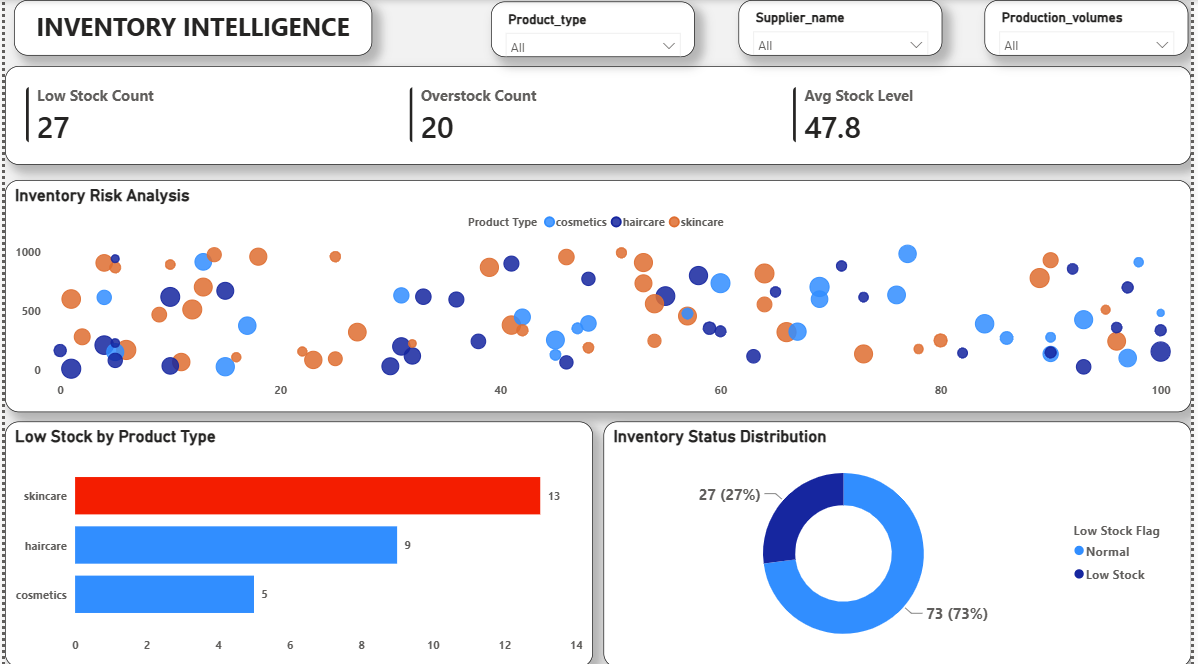

The page's visual inventory and layout, read from the dashboard file:
{"tool":"powerbi","page":{"name":"inventory intelligence","canvas":[1280,720],"ordinal":1},"visuals":[{"type":"textbox","box":[9.7,0,387,59.9],"z":0},{"type":"cardVisual","fields":{"Data":["SupplyChain.Low Stock Count","SupplyChain.Overstock Count","SupplyChain.Avg Stock Level"]},"box":[0,71.2,1280.8,106.9],"z":1},{"type":"scatterChart","title":"Inventory Risk Analysis","fields":{"Y":["Avg(SupplyChain.Number_of_products_sold)"],"Series":["SupplyChain.Product_type"],"Size":["SupplyChain.Total Revenue"],"Category":["SupplyChain.SKU"],"X":["Avg(SupplyChain.Stock_levels)"]},"box":[0,194.3,1280.8,251],"z":2},{"type":"clusteredBarChart","title":"Low Stock by Product Type","fields":{"Y":["SupplyChain.Low Stock Count"],"Category":["SupplyChain.Product_type"]},"box":[0,455,634.7,265.6],"z":3},{"type":"donutChart","title":"Inventory Status Distribution","fields":{"Category":["SupplyChain.Low Stock Flag"],"Y":["CountNonNull(SupplyChain.SKU)"]},"box":[646.1,455,634.7,265.6],"z":4},{"type":"slicer","fields":{"Values":["SupplyChain.Product_type"]},"box":[524.6,1.6,220.2,59.9],"z":5},{"type":"slicer","fields":{"Values":["SupplyChain.Supplier_name"]},"box":[791.1,0,220,60],"z":6},{"type":"slicer","fields":{"Values":["SupplyChain.Production_volumes"]},"box":[1057.4,0,220,60],"z":7}]}

Visuals, with their boxes in screenshot pixels (x1, y1, x2, y2), scaled from the page's 1280x720 canvas onto the 1198x664 screenshot:
textbox: 9,0,371,55
cardVisual - SupplyChain.Low Stock Count x SupplyChain.Overstock Count: 0,66,1197,164
"Inventory Risk Analysis" scatterChart: 0,179,1197,411
"Low Stock by Product Type" clusteredBarChart: 0,420,594,663
"Inventory Status Distribution" donutChart: 605,420,1197,663
slicer - SupplyChain.Product_type: 491,1,697,57
slicer - SupplyChain.Supplier_name: 740,0,946,55
slicer - SupplyChain.Production_volumes: 990,0,1196,55
